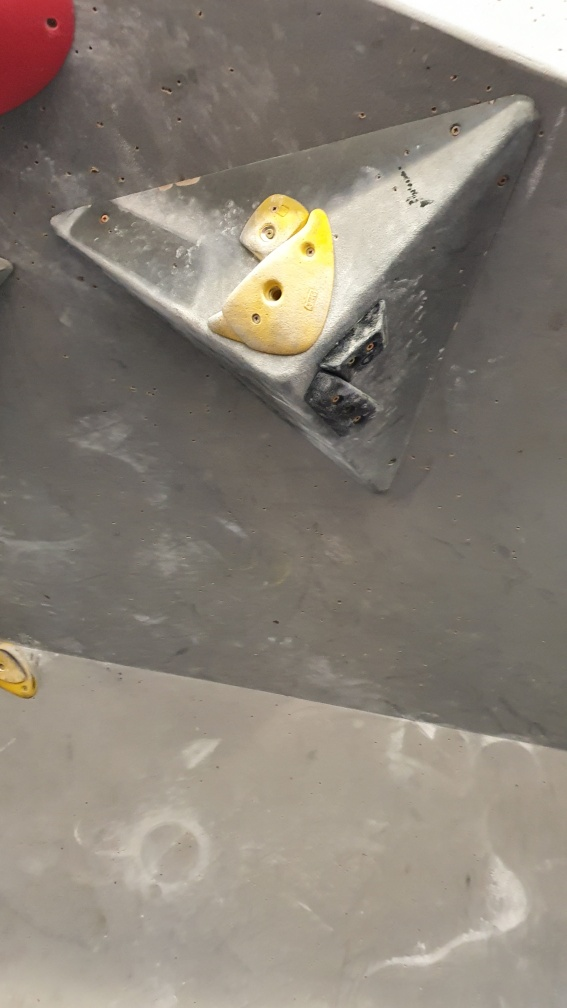Crimp: (304, 369, 385, 441)
